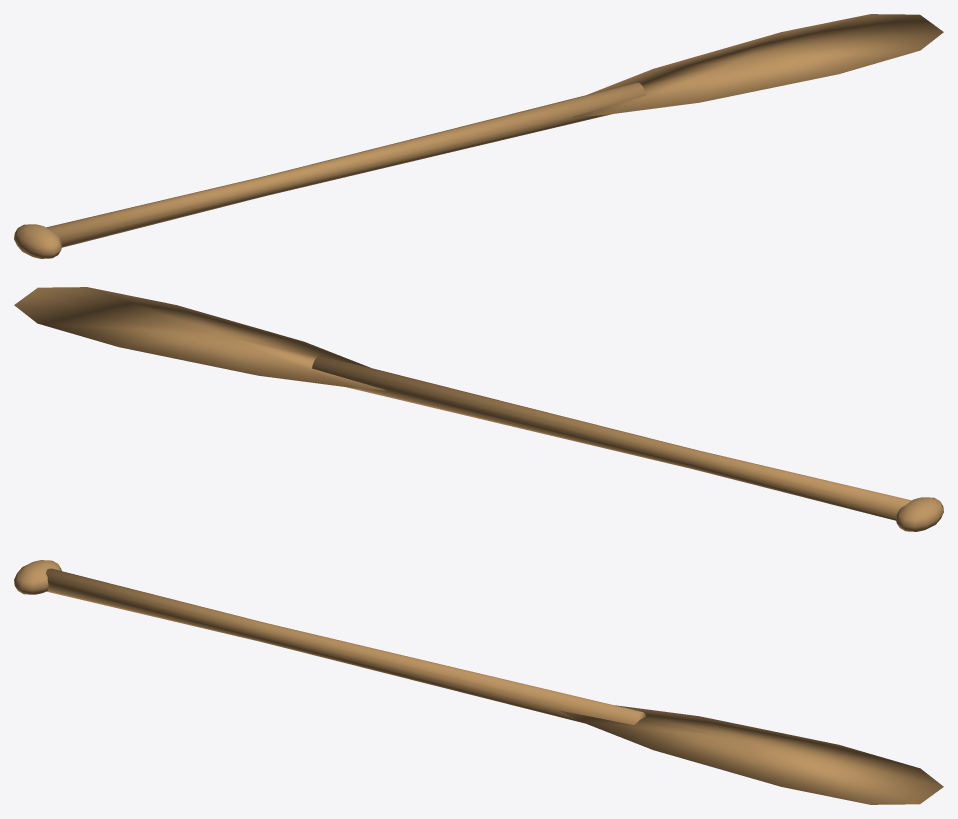
File: canoe_paddle.glb
The picture shows the model from 3 angles, top to bottom: view 1: azimuth 30°, elevation 25°; view 2: azimuth 150°, elevation 25°; view 3: azimuth 330°, elevation 25°; orthographic projection.
Parts seen in each view (by area): view 1: plain_paddle; view 2: plain_paddle; view 3: plain_paddle.
Part boxes in pixels (box(x1,y1,x2,y2)): plain_paddle: box(14, 14, 943, 258); plain_paddle: box(14, 287, 943, 531); plain_paddle: box(14, 560, 943, 804).
Bounding box in the file's own units: 1.5 × 0.04 × 0.164.
